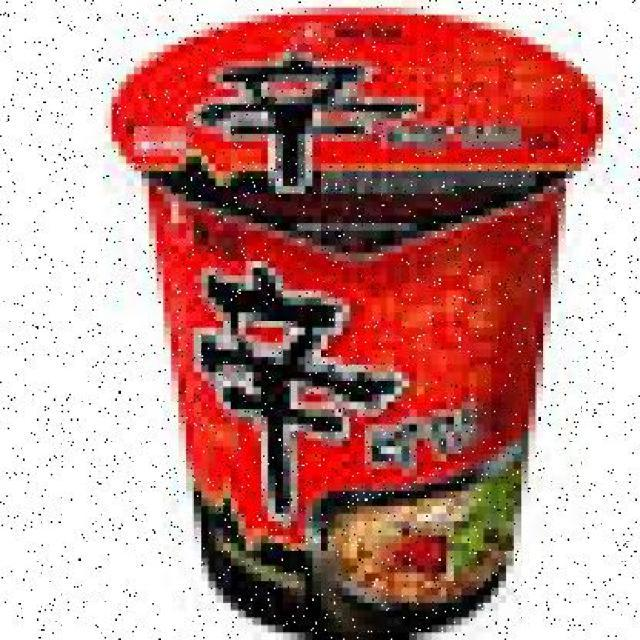Miscellaneous: (104, 0, 604, 640)
